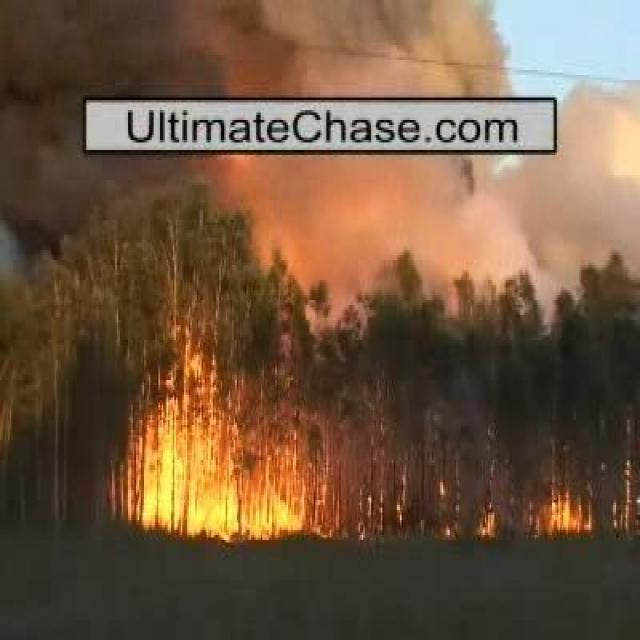fire: (148, 406, 236, 534)
smoke: (47, 16, 493, 88), (338, 160, 589, 263)
